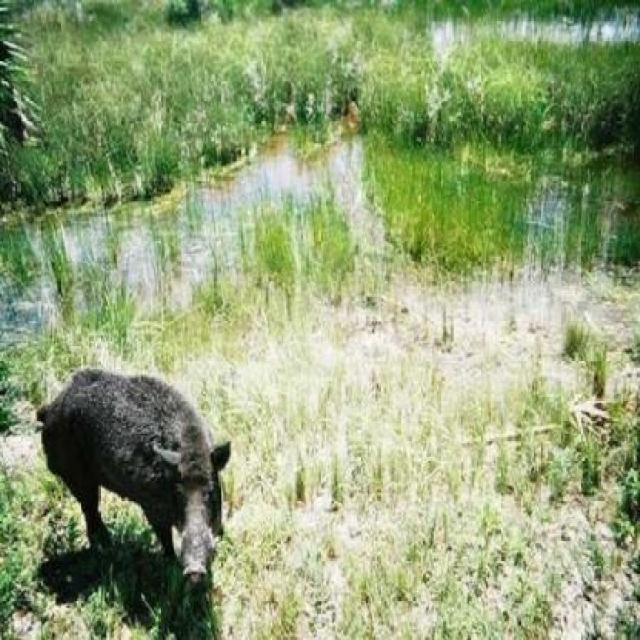pig: (6, 319, 299, 636)
